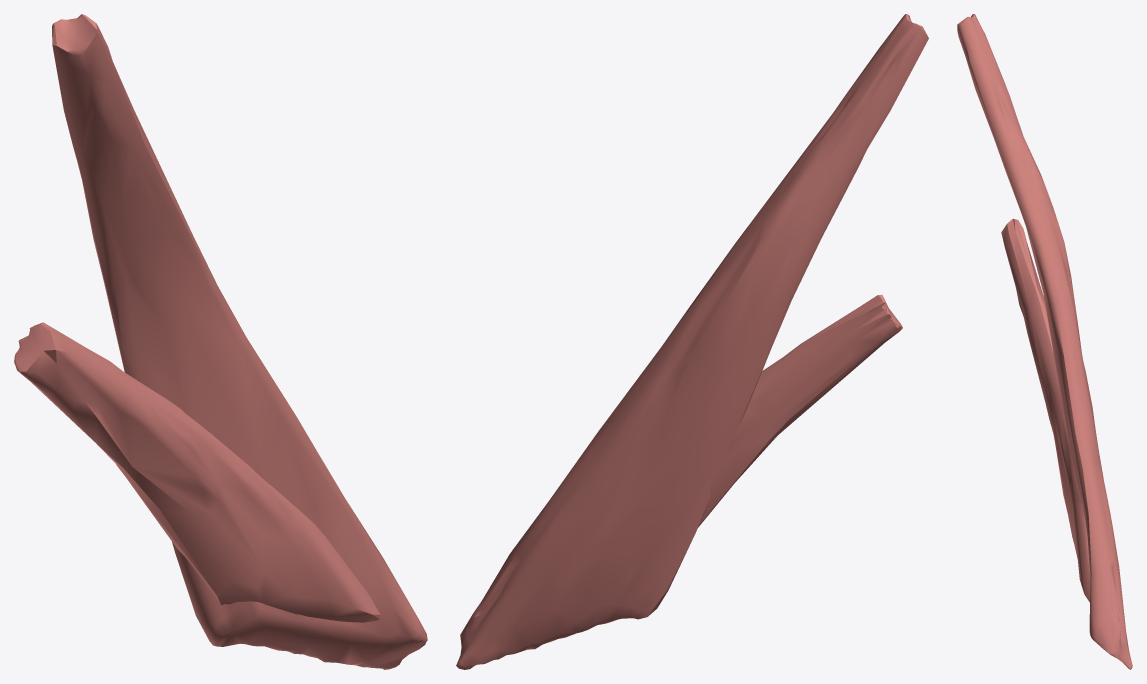
The model's file is fma82377_mm4007.glb.
3 views of the same model, side by side, from view 1: azimuth 30°, elevation 25°; view 2: azimuth 150°, elevation 25°; view 3: azimuth 270°, elevation 25° (orthographic). The views are drawn at different scales.
Parts seen in each view (by area): view 1: FMA82377_MM4007; view 2: FMA82377_MM4007; view 3: FMA82377_MM4007.
Boxes of the visible parts, x1,y1,x2,y2 form: FMA82377_MM4007: [14, 14, 427, 669]; FMA82377_MM4007: [456, 14, 928, 669]; FMA82377_MM4007: [957, 14, 1132, 669].
Bounding box in the file's own units: 0.0365 × 0.0613 × 0.0187.
